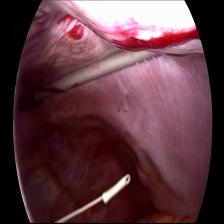Grasper: (122, 46, 167, 72)
